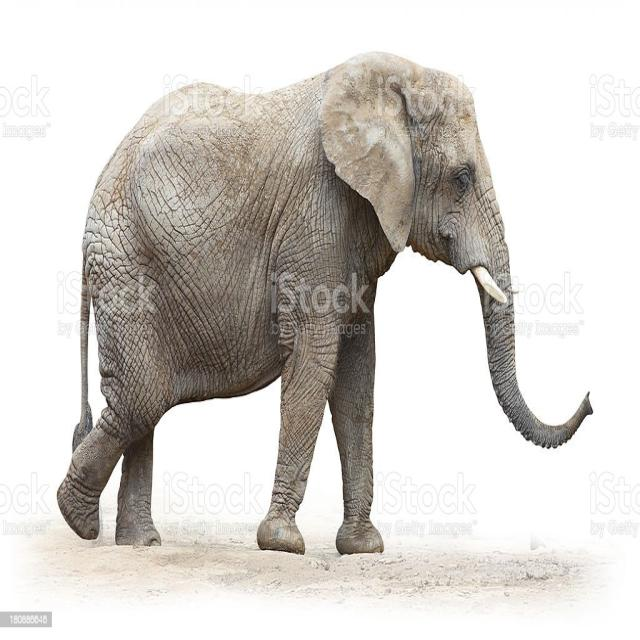Elephant: (49, 26, 597, 552)
